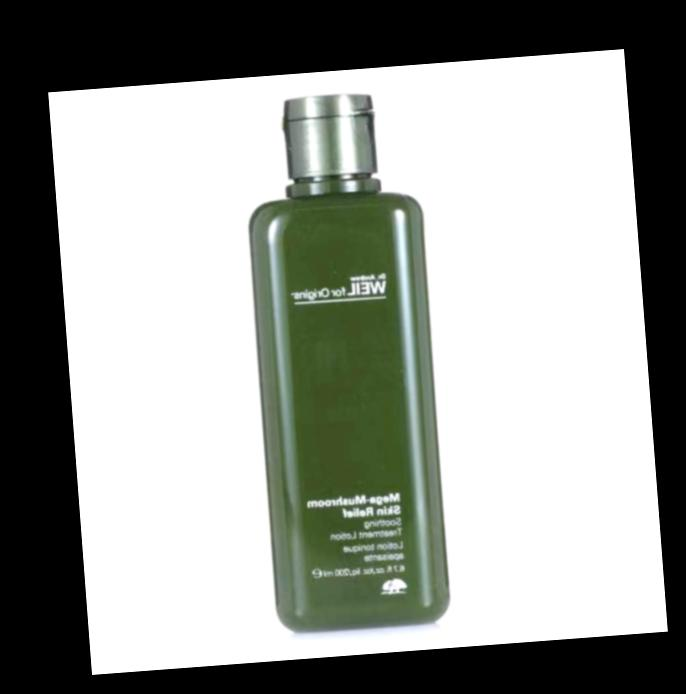cosmetic: (235, 82, 456, 638)
